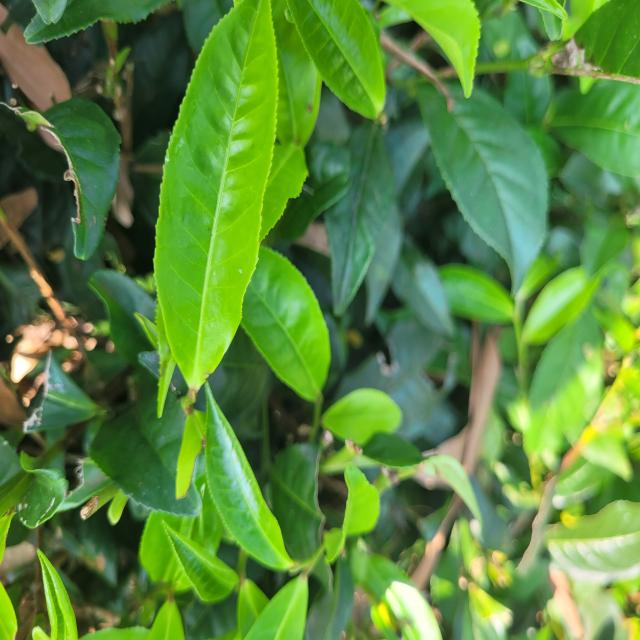Catagory A(1-2 days): (144, 0, 282, 401)
